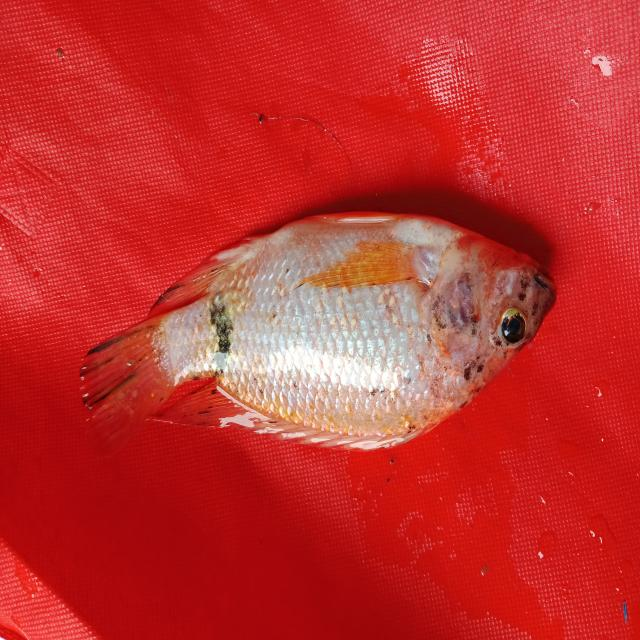ikan: (78, 188, 564, 457)
